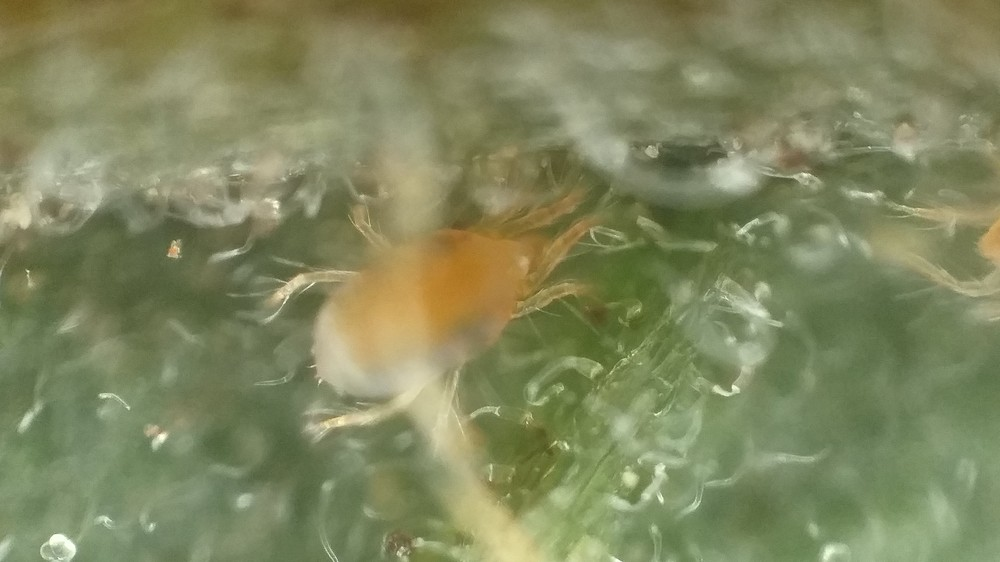Aracnido Rojo: (253, 152, 633, 455)
